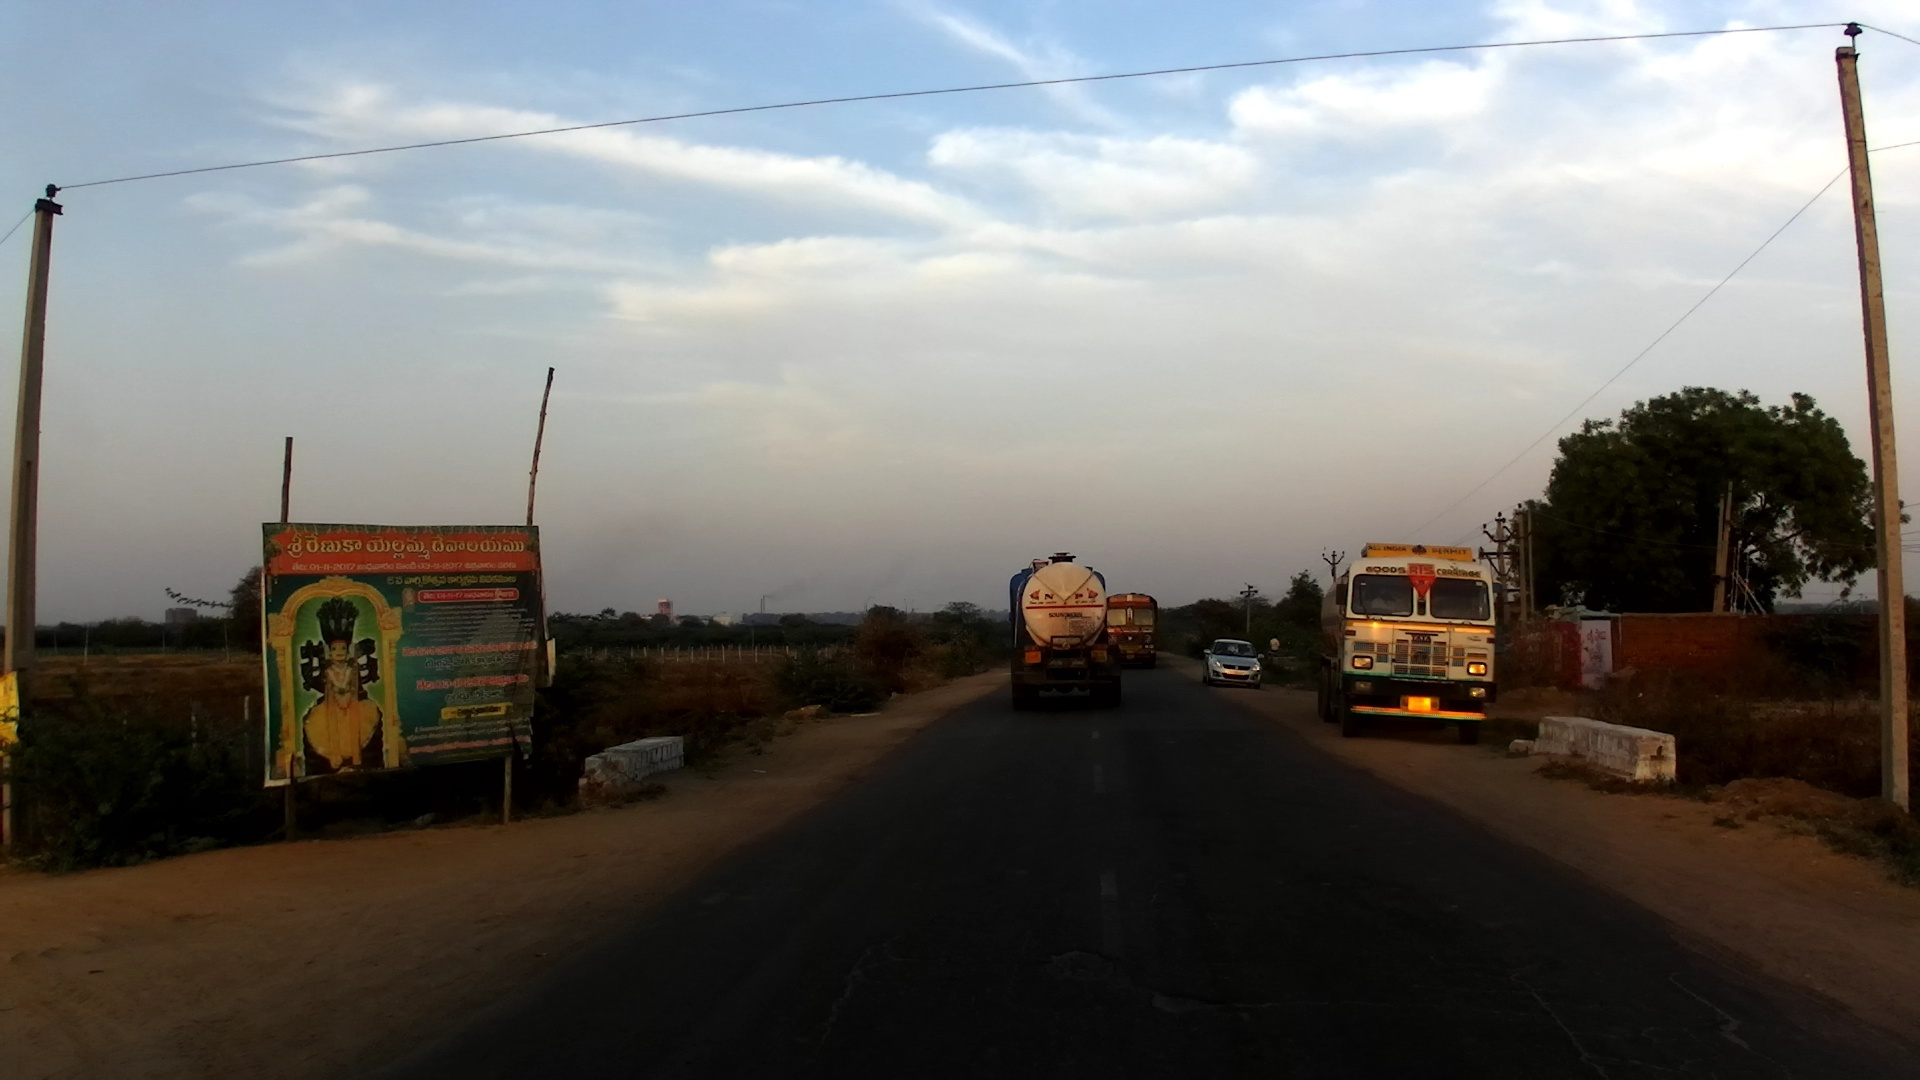car: (1199, 636, 1263, 690)
person: (1268, 633, 1286, 662)
truck: (1319, 543, 1505, 746), (1005, 552, 1122, 718), (1104, 592, 1160, 669)
